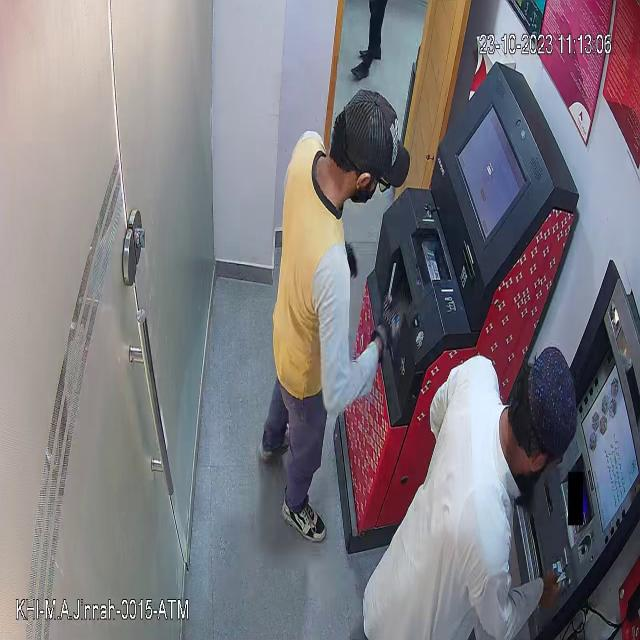atm-card: (548, 553, 569, 589)
